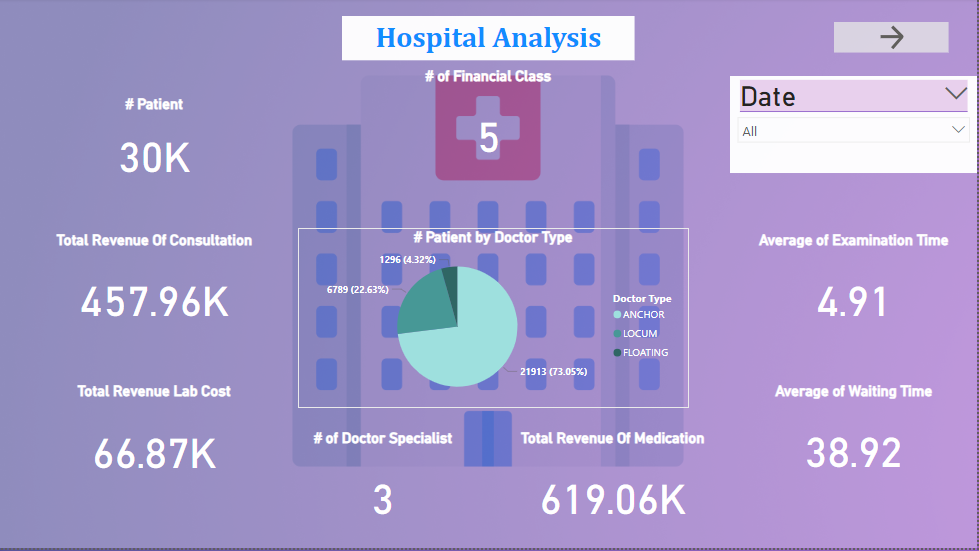

What the dashboard file says about the page in this screenshot:
{"tool":"powerbi","page":{"name":"Home","canvas":[1280,720],"ordinal":0},"visuals":[{"type":"card","title":"# Patient","fields":{"Values":["Measure.# Patient"]},"box":[38.9,126.7,325.4,126.7],"z":0},{"type":"textbox","box":[447.8,23,383,57.6],"z":1000},{"type":"card","title":"Total Revenue Of Medication","fields":{"Values":["Sum(Sheet1. Medication Revenue )"]},"box":[649.4,564.5,305.3,149.8],"z":2000},{"type":"card","title":"Total Revenue Of Consultation ","fields":{"Values":["Sum(Sheet1. Consultation Revenue )"]},"box":[38.9,305.3,325.4,149.8],"z":3000},{"type":"card","title":"Total Revenue Lab Cost","fields":{"Values":["Sum(Sheet1.  Lab Cost )"]},"box":[39,502.5,325,150],"z":4000},{"type":"slicer","fields":{"Values":["Sheet1.Date"]},"box":[956.2,102.2,324,126.7],"z":5000},{"type":"card","title":"Average of Examination Time","fields":{"Values":["Avg(Sheet1.Examination time)"]},"box":[956.2,305.3,324,149.8],"z":6000},{"type":"card","title":"Average of Waiting Time","fields":{"Values":["Avg(Sheet1.Waiting_Time)"]},"box":[956.2,502.6,324,149.8],"z":7000},{"type":"card","title":"# of Doctor Specialist","fields":{"Values":["Count(Sheet1.Doctor Type)"]},"box":[364.3,564.5,275,149.8],"z":8000},{"type":"actionButton","box":[1091.5,31.7,149.8,40.3],"z":9000},{"type":"pieChart","fields":{"Category":["Sheet1.Doctor Type"],"Y":["Measure.# Patient"]},"box":[390.2,301,511.2,236.2],"z":10000},{"type":"card","title":"# of Financial Class","fields":{"Values":["Count(Sheet1.Financial Class)"]},"box":[447.8,90.7,383,149.8],"z":11000}]}

Visuals, with their boxes in screenshot pixels (x1, y1, x2, y2), scaled from the page's 1280x720 canvas onto the 979x551 screenshot:
"# Patient" card: select_region(30, 97, 279, 194)
textbox: select_region(342, 18, 635, 62)
"Total Revenue Of Medication" card: select_region(497, 432, 730, 547)
"Total Revenue Of Consultation " card: select_region(30, 234, 279, 348)
"Total Revenue Lab Cost" card: select_region(30, 385, 278, 499)
slicer - Sheet1.Date: select_region(731, 78, 978, 175)
"Average of Examination Time" card: select_region(731, 234, 978, 348)
"Average of Waiting Time" card: select_region(731, 385, 978, 499)
"# of Doctor Specialist" card: select_region(279, 432, 489, 547)
actionButton: select_region(835, 24, 949, 55)
pieChart - Sheet1.Doctor Type x Measure.# Patient: select_region(298, 230, 689, 411)
"# of Financial Class" card: select_region(342, 69, 635, 184)
